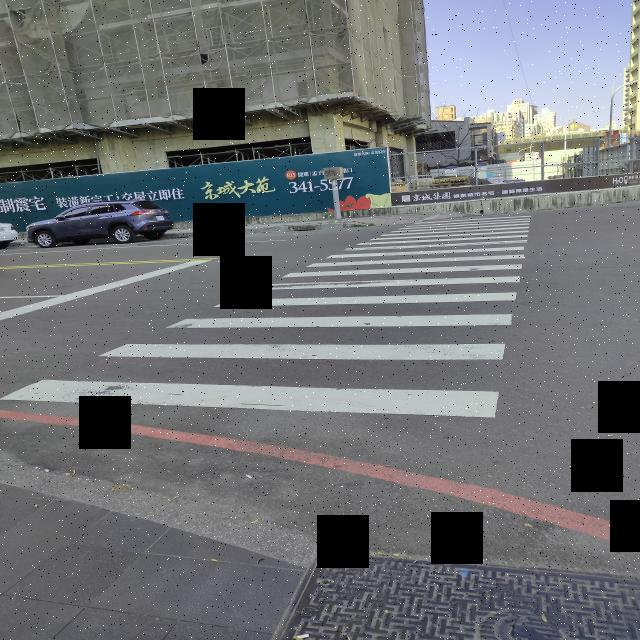zebra crossing: (0, 211, 530, 412)
